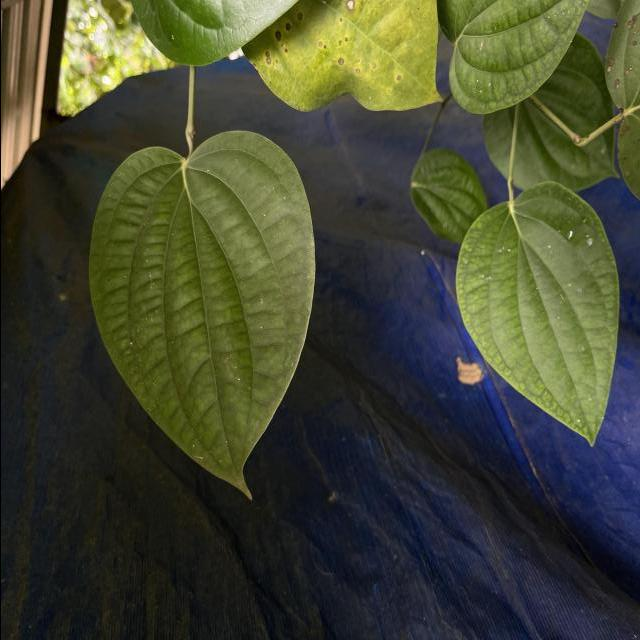Piper nigrum: (85, 127, 316, 504), (454, 179, 620, 449)
